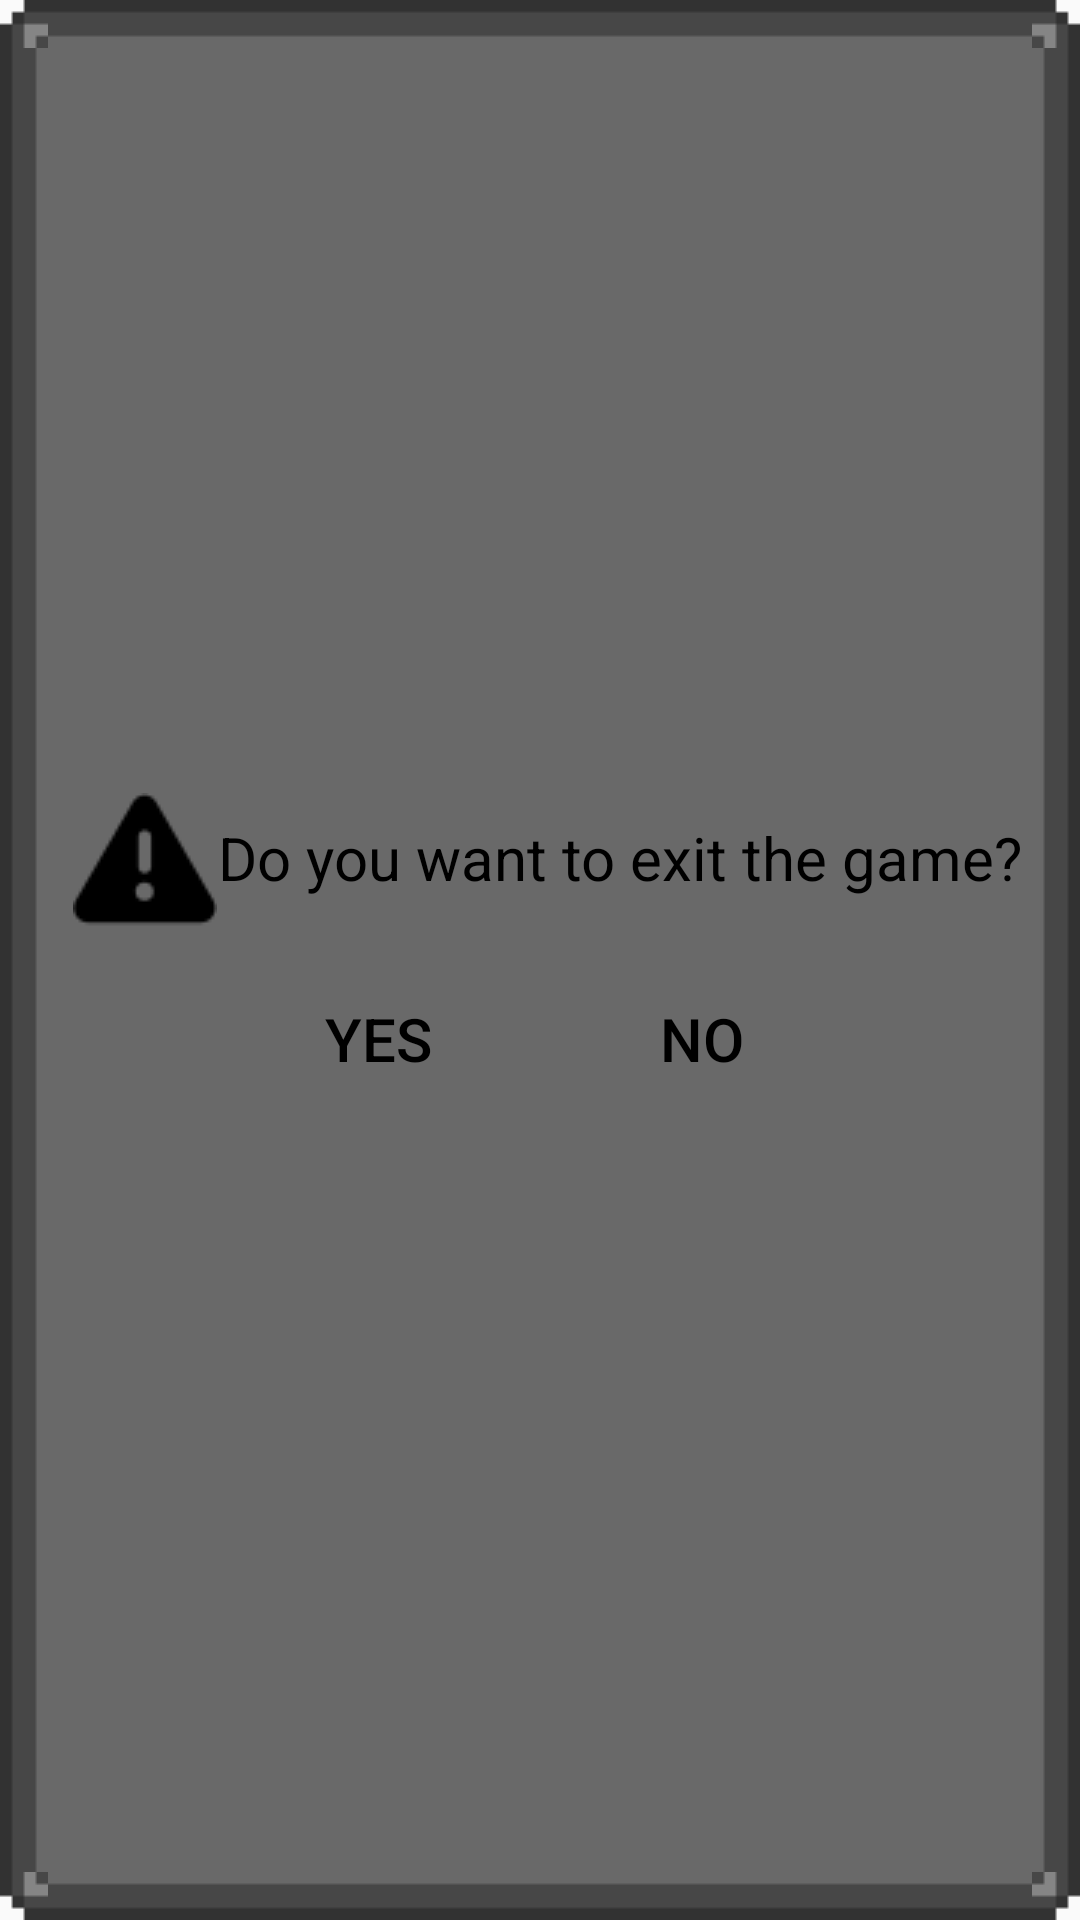

Locate icon controls on the screen. Image size 1080×1920, boxes as [x1,y1,x2,y2].
alert: [73,795,217,923]
